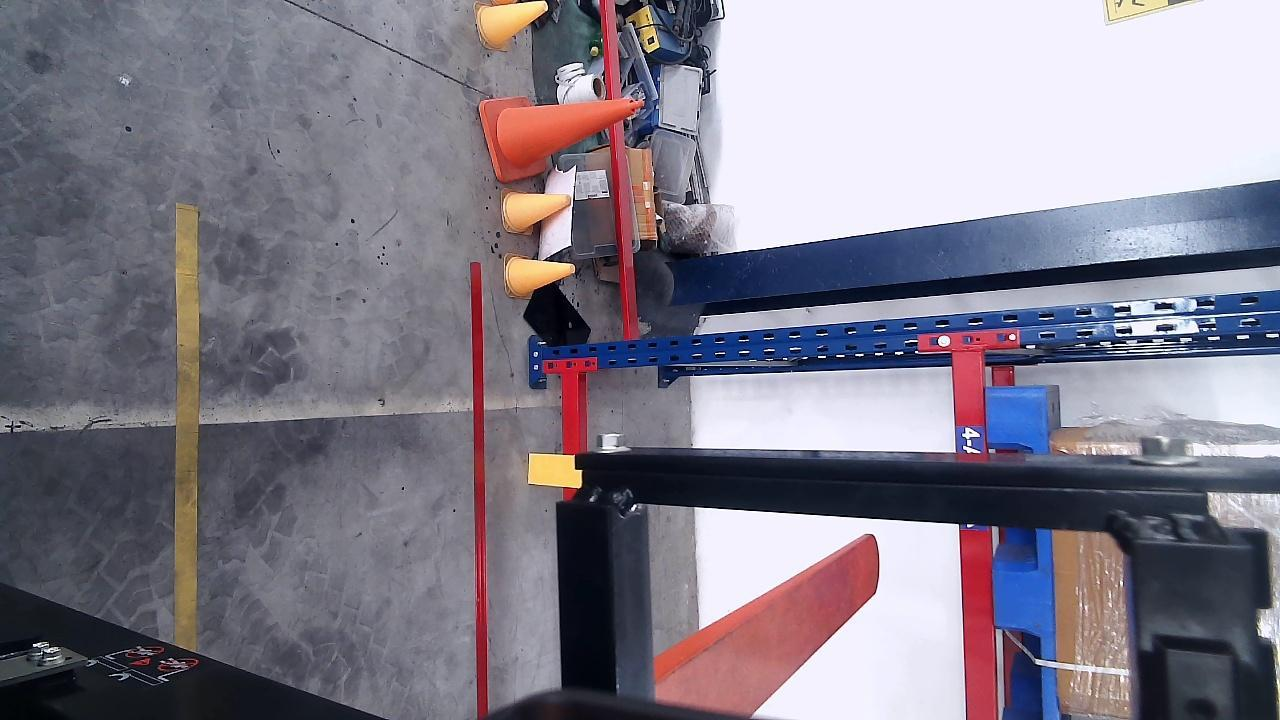h_rack: (953, 349, 1000, 715)
red_line: (469, 262, 488, 718)
small_pallet: (985, 389, 1060, 720)
yellow_line: (176, 202, 202, 653)
